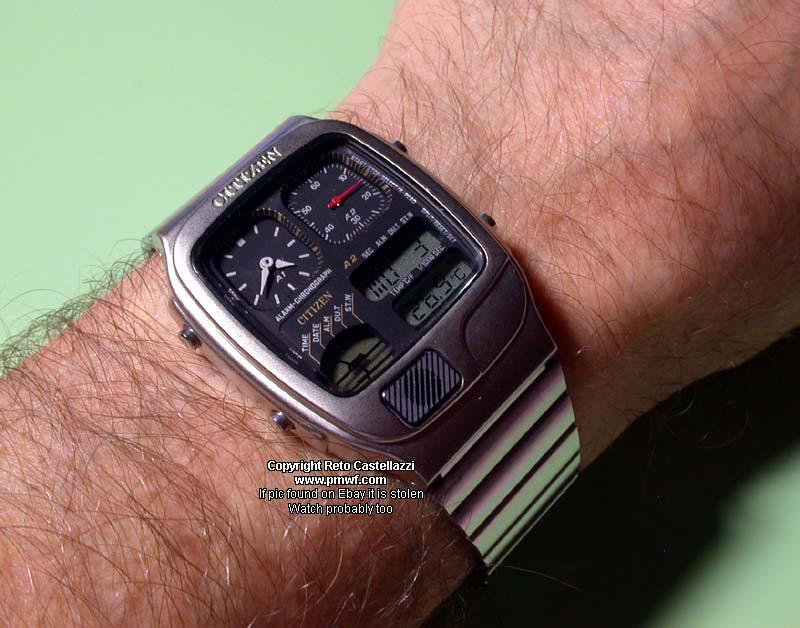watch: (140, 113, 586, 573)
